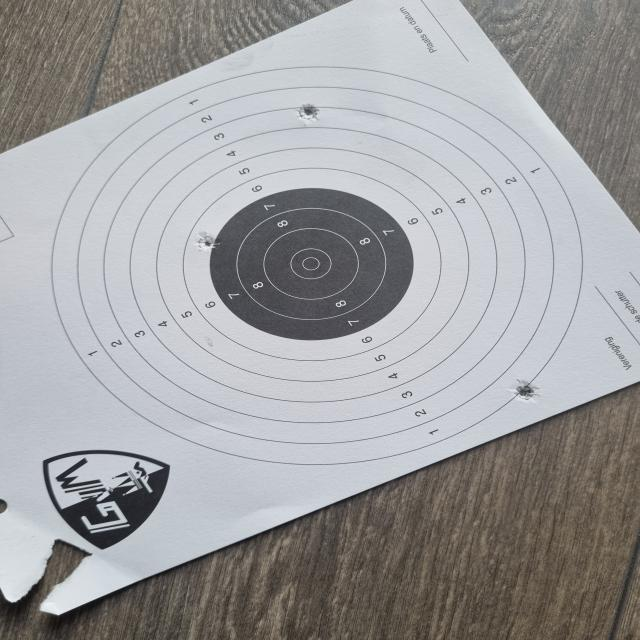1: (512, 379, 538, 402)
3: (296, 104, 320, 124)
7: (196, 233, 221, 253)
Target: (52, 66, 584, 465)
black_contour: (209, 188, 413, 341)
